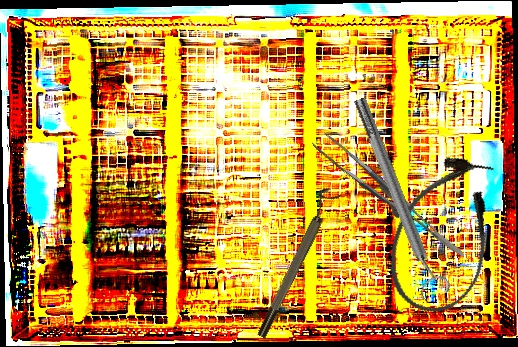Cannula: (373, 143, 516, 326)
Fixation Ring: (345, 92, 453, 303), (248, 184, 342, 341)
Tissue Forceps: (311, 118, 465, 280)
